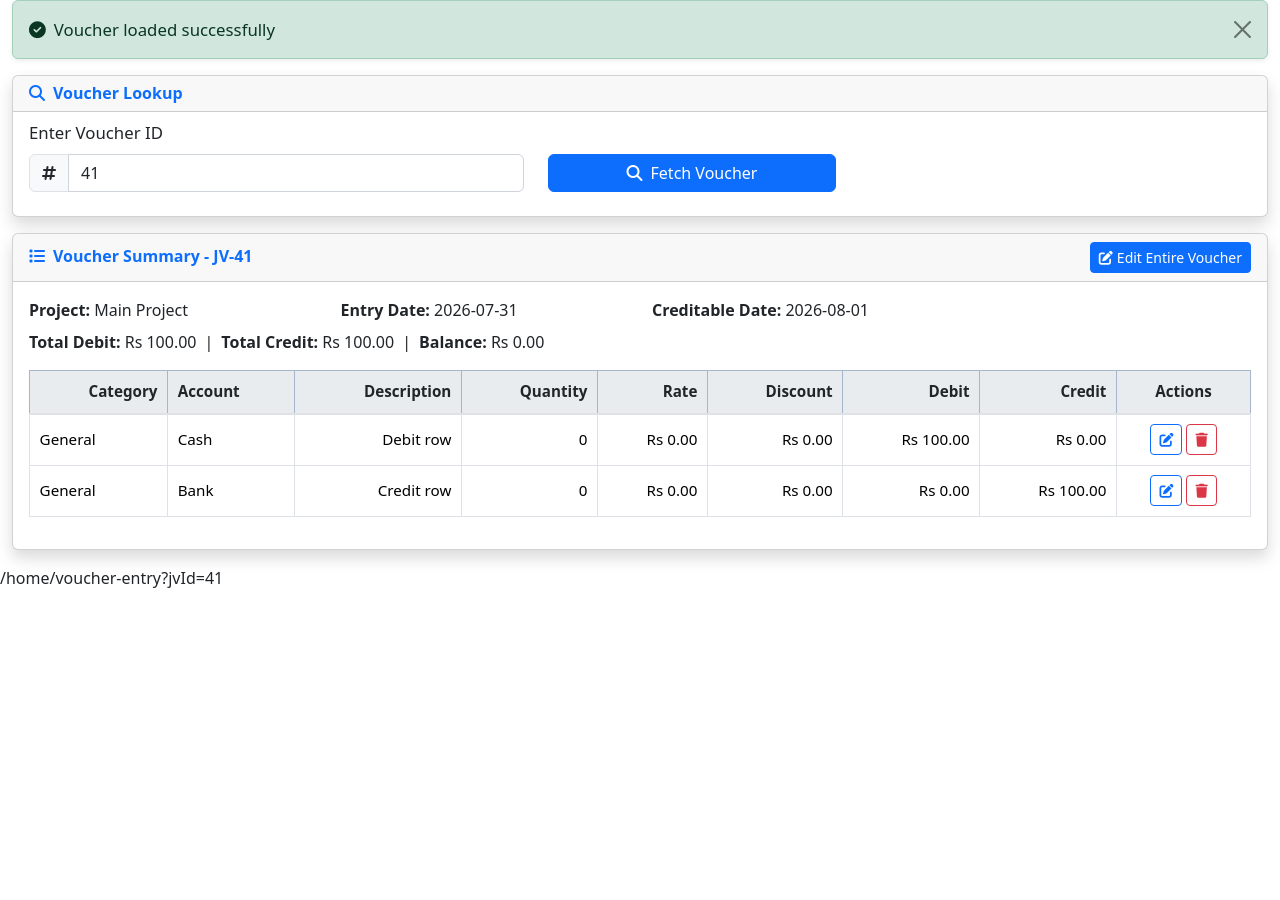
VoucherEntry aggregate editing boundaries › shows a failed line edit inside the edit dialog instead of behind it
Step 1. Click the button titled "Edit Entry" in the row of "Cash" → x=1166, y=440, box [1150,424,1182,455]
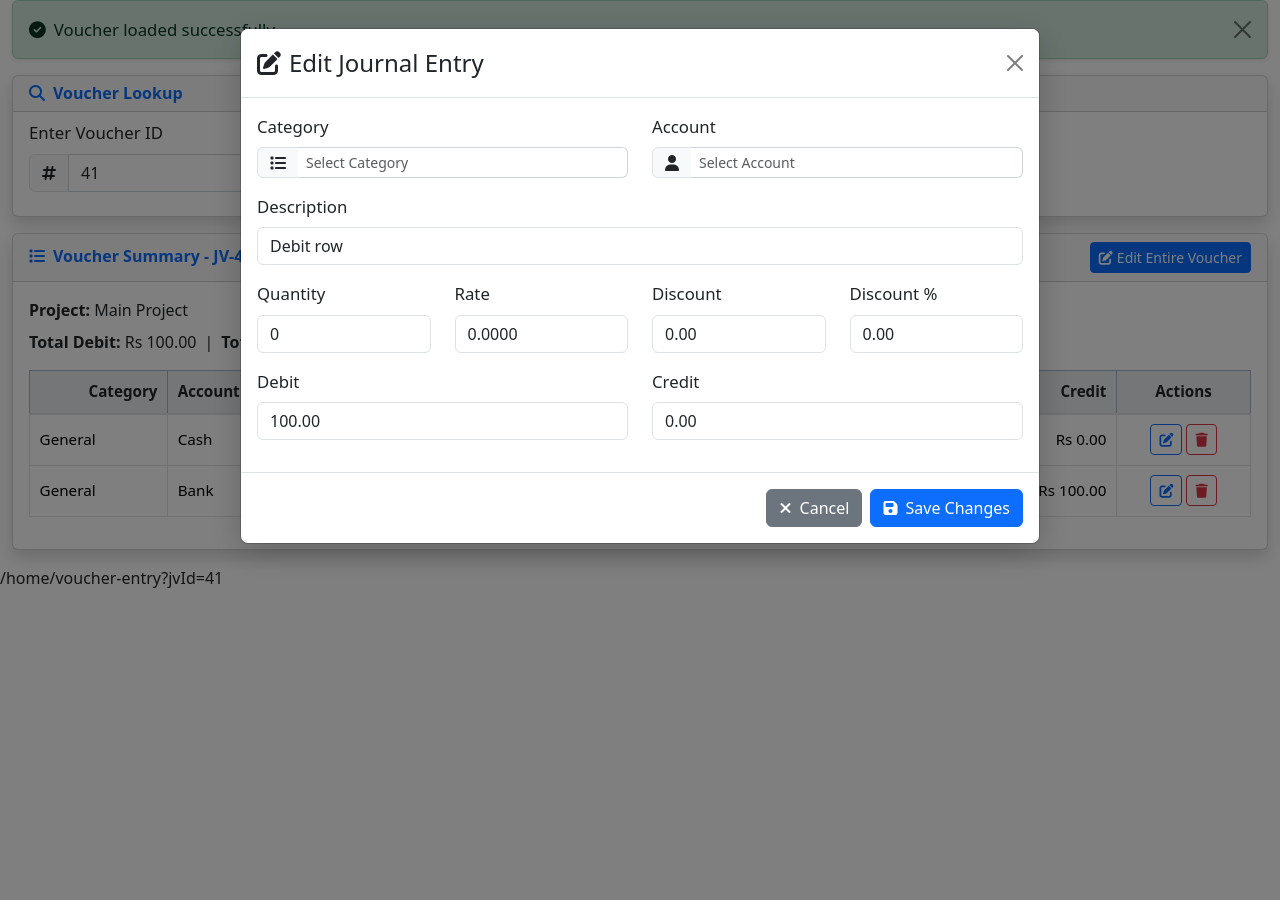
Step 2. Click the button "Save Changes" → x=947, y=508, box [870,489,1023,527]
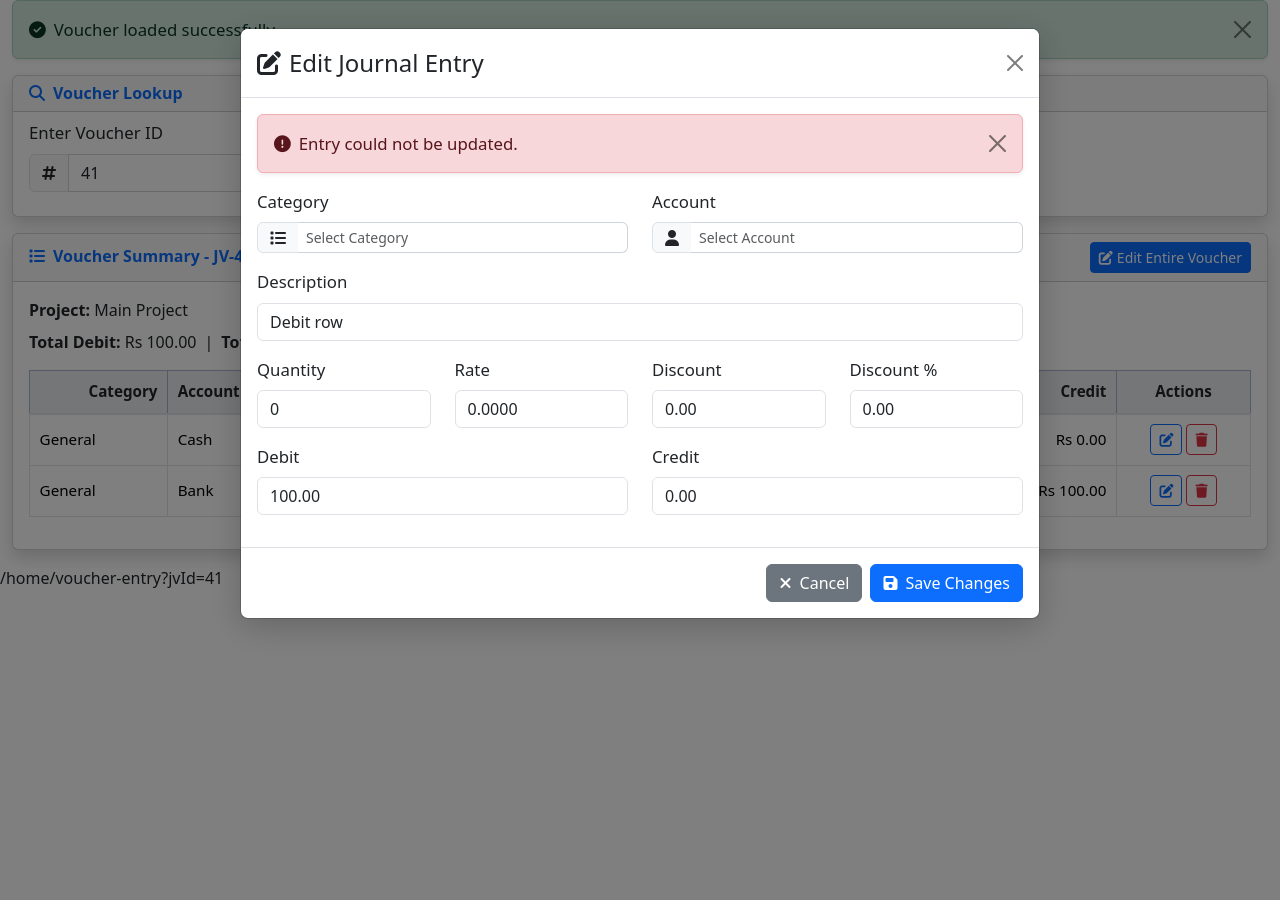
Check: the text "Entry could not be updated." is shown, box [257,114,1023,173]
